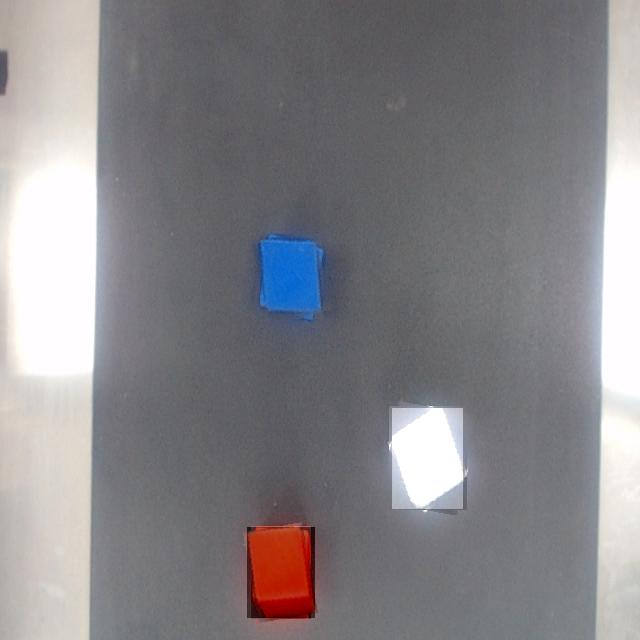Azul: (260, 241, 322, 315)
Blanco: (392, 408, 463, 509)
Rojo: (247, 527, 315, 618)
